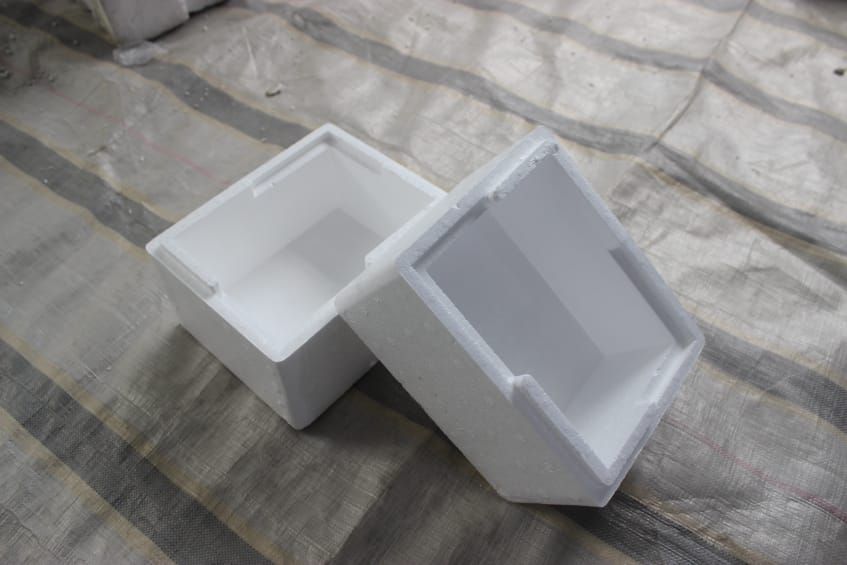Boxes: (147, 126, 701, 507)
